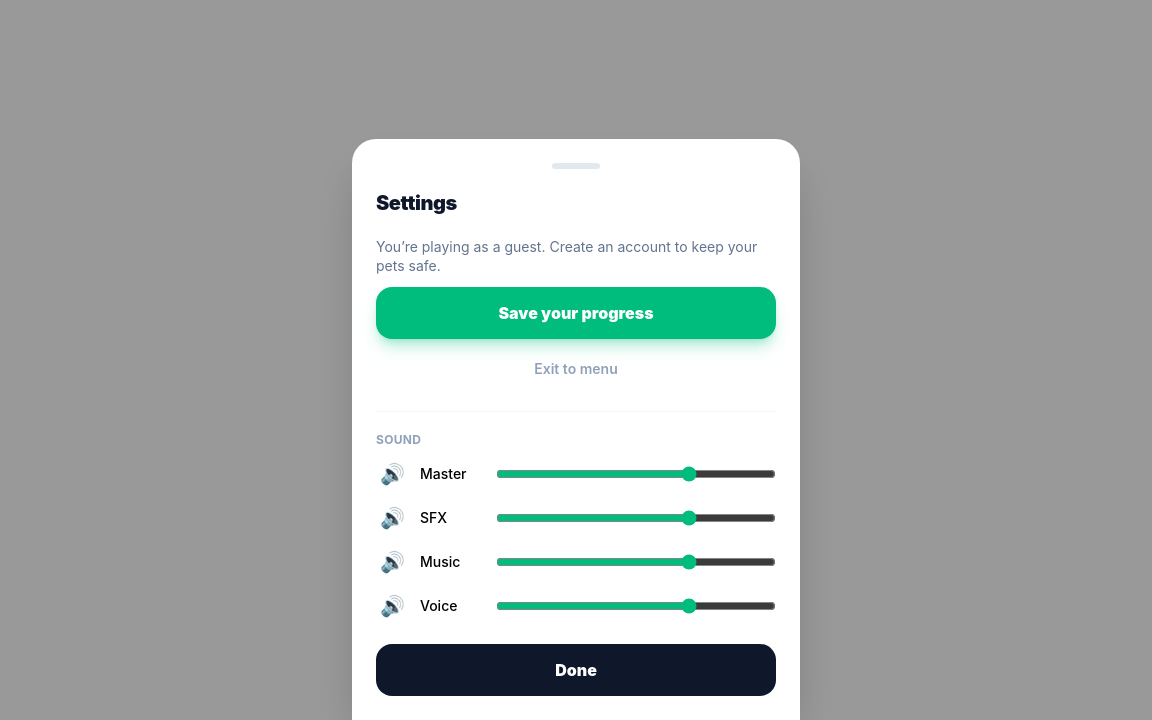
it: SettingsSheet — Account section › guest Save your progress opens the sign-up form
This screenshot has width=1152, height=720.
What coordinates should you click on to do the following:
click the button "Save your progress"
I would click on:
 (576, 313)
Its box is [376,287,776,339].
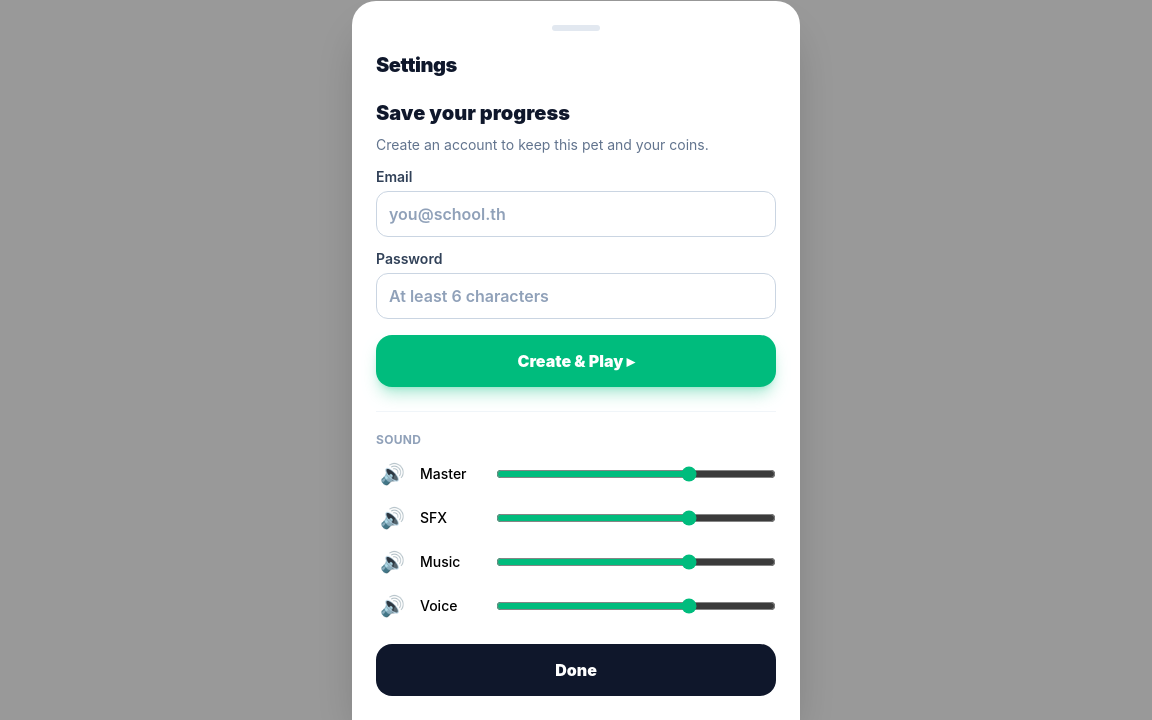
Check: the field labelled "Email" is shown, box [376,191,776,237]
Check: the button "Create & Play ▸" is shown, box [376,335,776,387]
